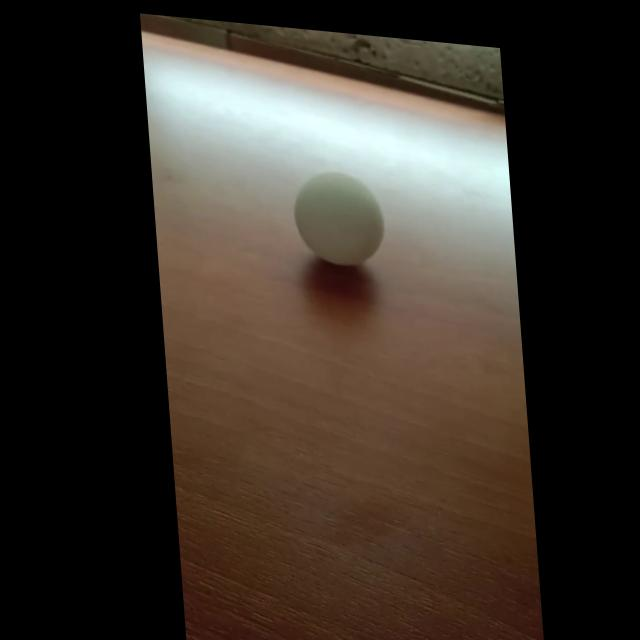white ball: (290, 166, 387, 271)
